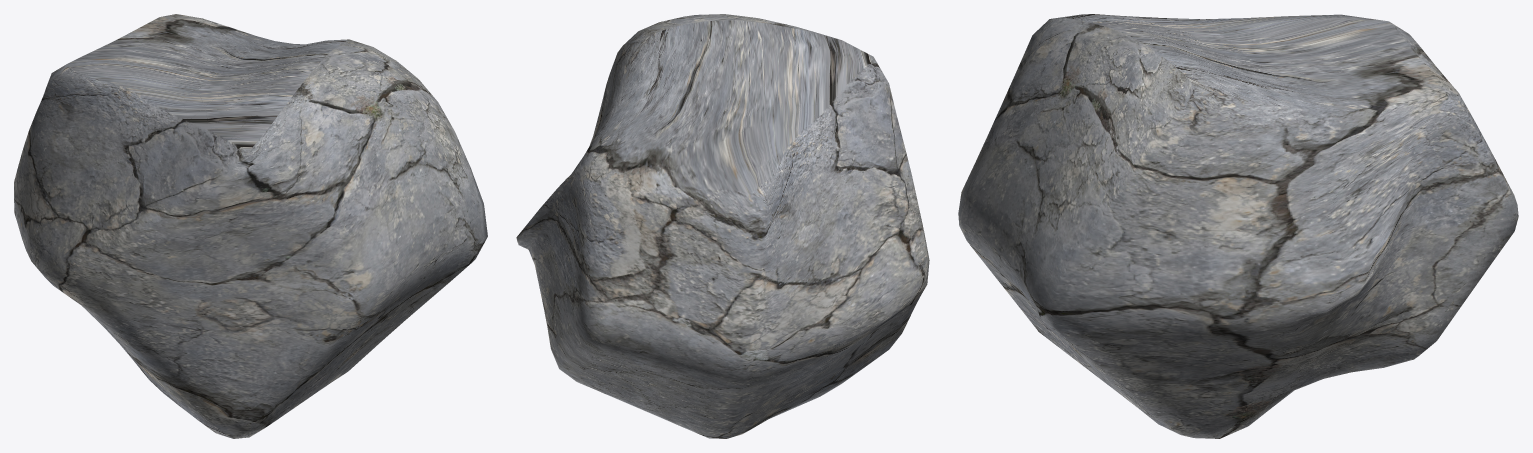
The model's file is 02_rock_smooth.fbx.
3 views of the same model, side by side, from view 1: azimuth 30°, elevation 25°; view 2: azimuth 150°, elevation 25°; view 3: azimuth 270°, elevation 25° (orthographic). The views are drawn at different scales.
Parts seen in each view (by area): view 1: pPlatonic2; view 2: pPlatonic2; view 3: pPlatonic2.
Boxes of the visible parts, x1=… form: pPlatonic2: x1=14, y1=14, x2=487, y2=438; pPlatonic2: x1=516, y1=14, x2=929, y2=438; pPlatonic2: x1=958, y1=14, x2=1518, y2=438.
Bounding box in the file's own units: 1.85 × 1.68 × 2.23.
Materials: 1 (1 with a texture image).
